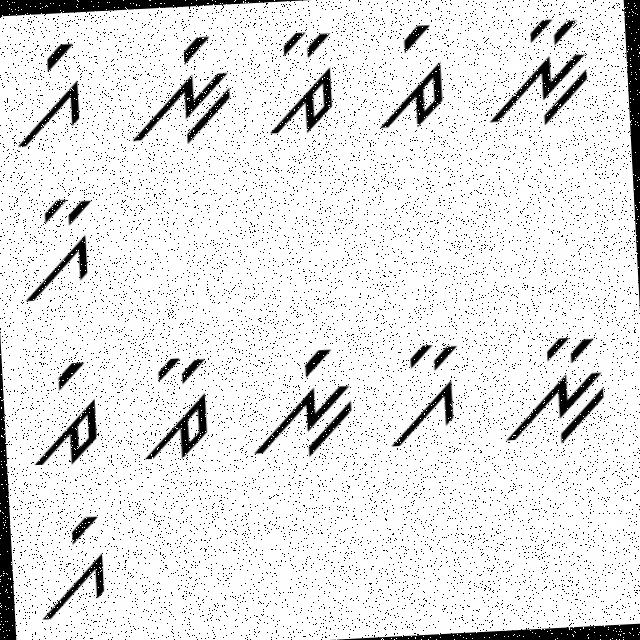gan: (8, 189, 98, 317), (378, 336, 466, 458)
gang: (30, 509, 119, 628), (2, 40, 88, 157)
ngan: (474, 18, 596, 134), (499, 329, 609, 452)
ngang: (116, 28, 241, 149), (245, 336, 358, 468)
tan: (251, 27, 341, 142), (136, 348, 218, 468)
tang: (17, 354, 104, 473), (367, 17, 455, 132)
